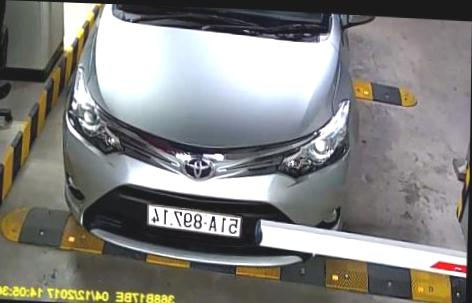License_Plate: (143, 199, 248, 238)
